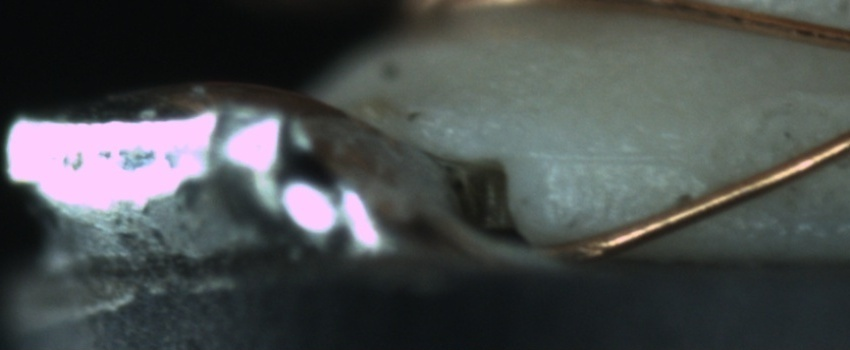DL: (536, 128, 689, 189)
